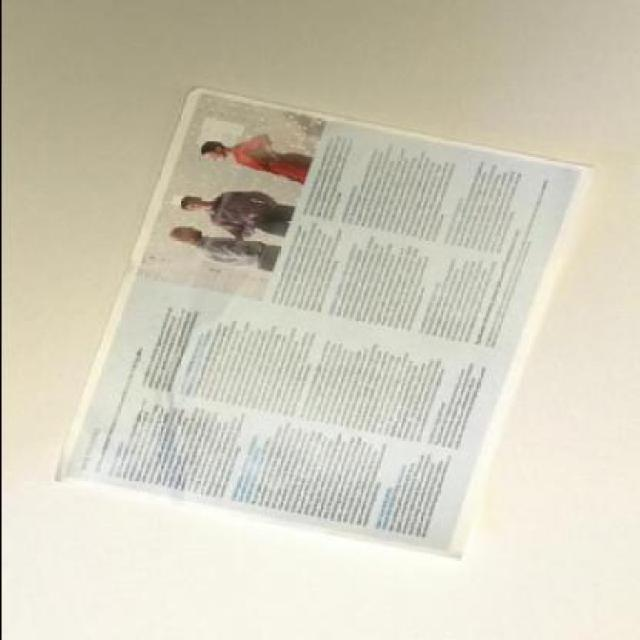paper: (54, 89, 595, 562)
